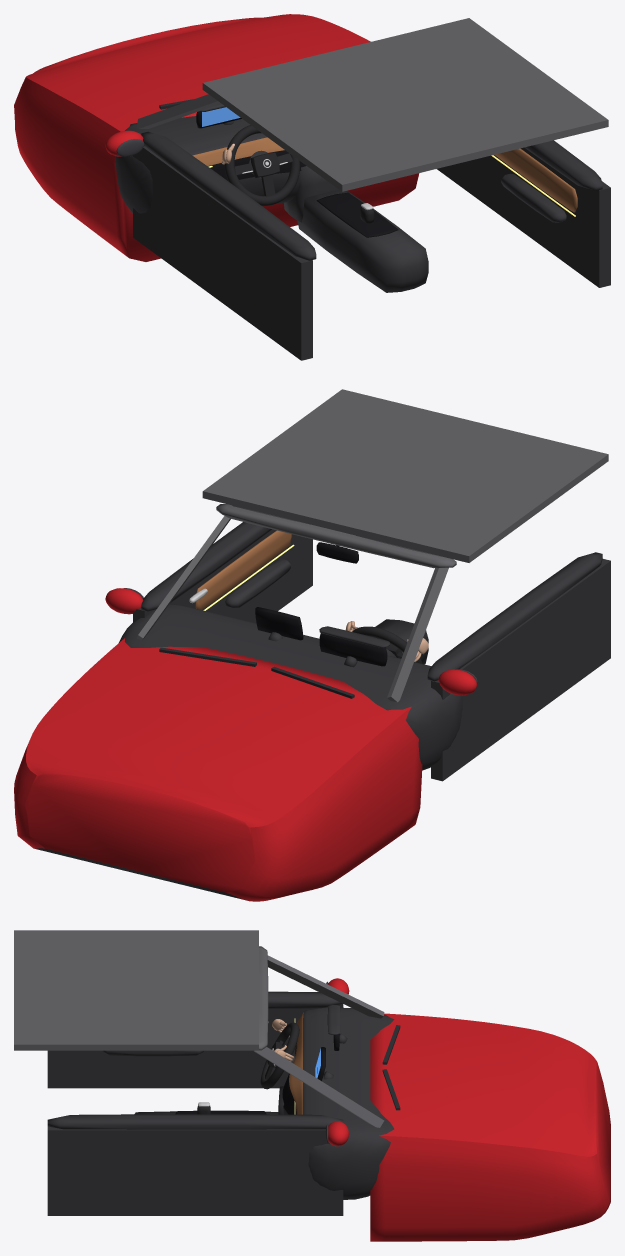
Rendered from cockpit.glb.
The picture shows the model from 3 angles, top to bottom: view 1: azimuth 30°, elevation 25°; view 2: azimuth 150°, elevation 25°; view 3: azimuth 270°, elevation 25°; orthographic projection. The views are drawn at different scales.
Visible parts, largest first — view 1: frame, hood, dash, steering, cluster; view 2: frame, hood, dash, steering; view 3: frame, hood, dash, steering.
Boxes of the visible parts, <box> form: frame: <box>105,18,610,360</box>; hood: <box>14,14,419,261</box>; dash: <box>115,116,306,213</box>; steering: <box>224,125,299,205</box>; cluster: <box>202,107,240,126</box>; frame: <box>105,389,610,781</box>; hood: <box>14,638,422,901</box>; dash: <box>119,604,462,770</box>; steering: <box>352,626,422,663</box>; frame: <box>14,930,400,1215</box>; hood: <box>370,1013,610,1241</box>; dash: <box>282,1007,394,1199</box>; steering: <box>260,1022,299,1089</box>.
Size of the model in its own units: 2.22 by 1.3 by 3.53.
